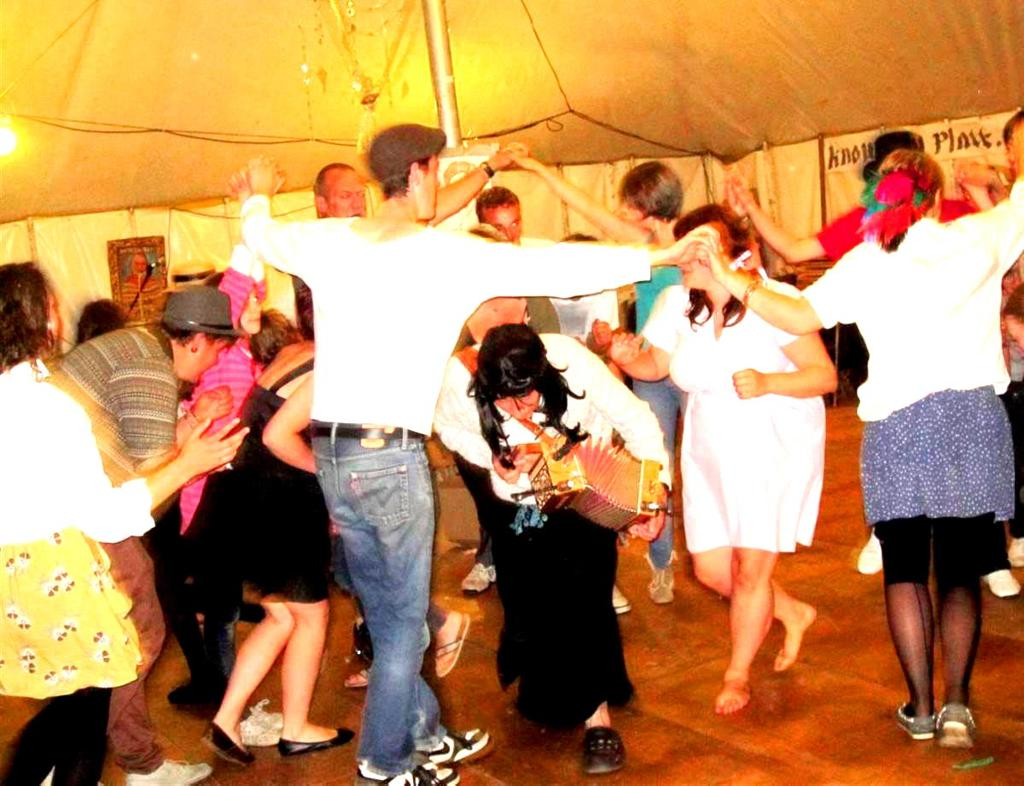face: (676, 229, 724, 288), (326, 172, 369, 233), (179, 331, 230, 379), (484, 209, 522, 250), (494, 388, 539, 421)
